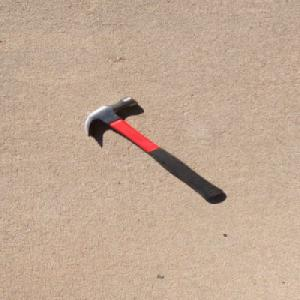Hammer: (80, 94, 227, 202)
